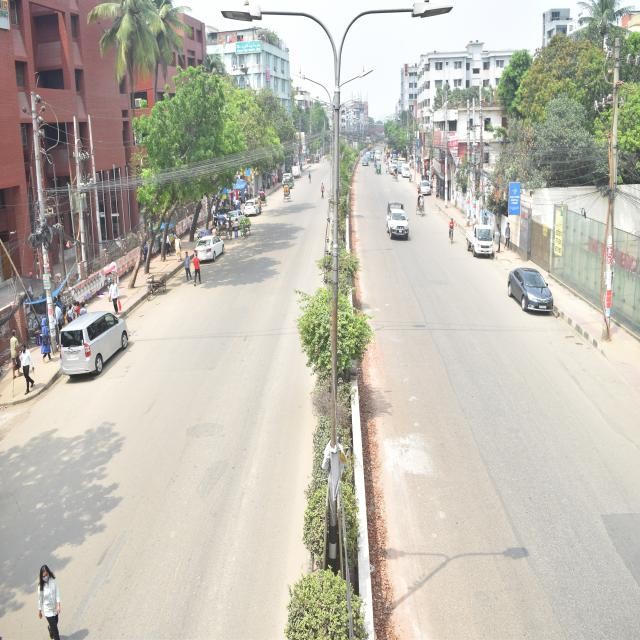car: (49, 309, 137, 396), (489, 239, 564, 332), (178, 222, 236, 285), (238, 182, 270, 238), (221, 202, 257, 248), (274, 167, 299, 204), (401, 152, 415, 184), (357, 159, 374, 177)
pickup-van: (371, 182, 423, 278), (458, 212, 509, 274)
